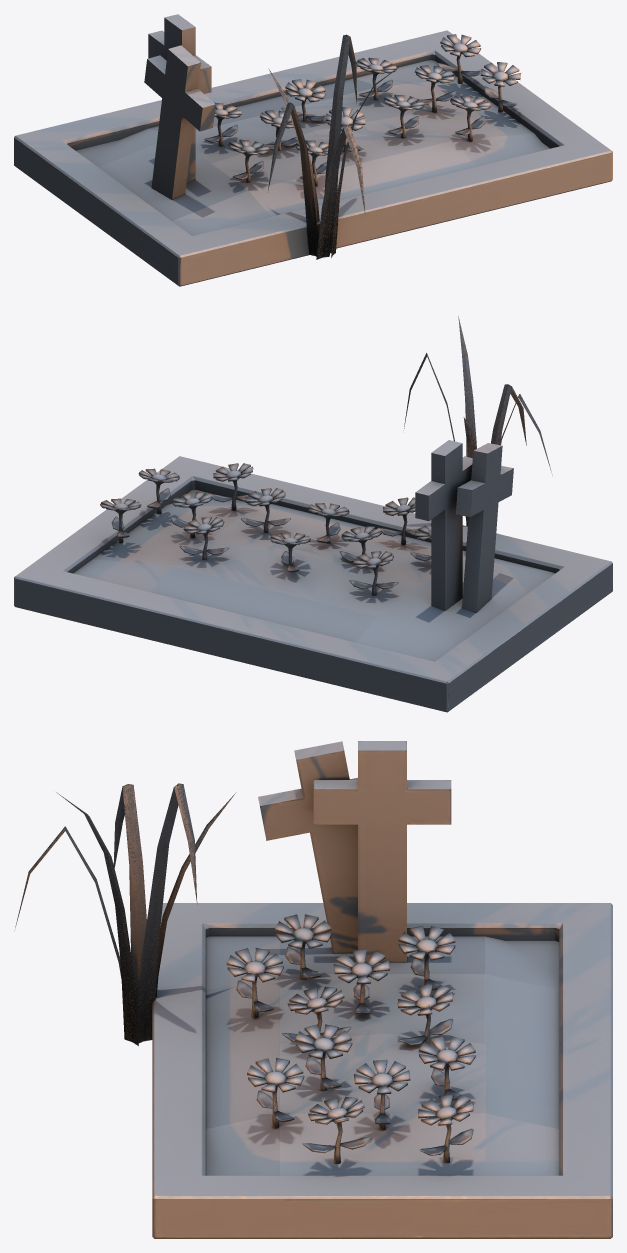
3 views of the same model, one above another, from view 1: azimuth 30°, elevation 25°; view 2: azimuth 150°, elevation 25°; view 3: azimuth 270°, elevation 25° (orthographic). The views are drawn at different scales.
Visible parts, largest first — view 1: Tombe2; view 2: Tombe2; view 3: Tombe2.
Part boxes in pixels (x1,y1,x2,y2): Tombe2: (14,14,612,286); Tombe2: (14,316,612,712); Tombe2: (14,741,612,1238).
Bounding box in the file's own units: 2.15 × 0.9634 × 1.84.
Materials: 1 (1 with a texture image).
